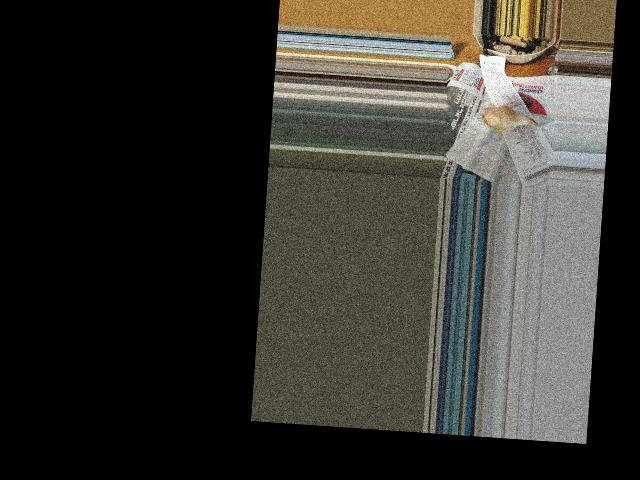onion: (482, 106, 525, 132)
